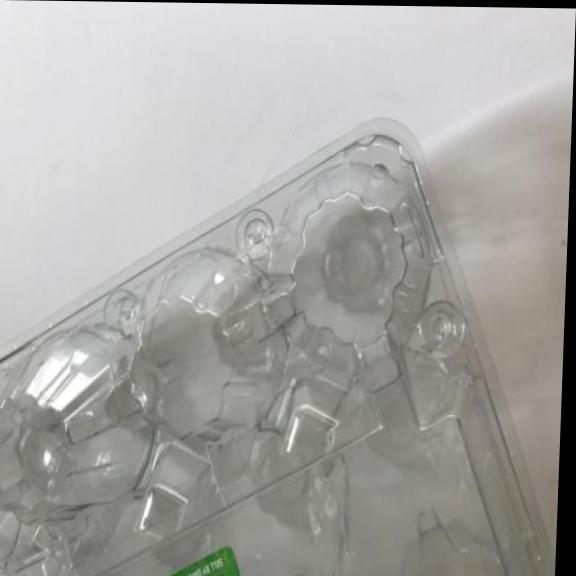Plastik: (0, 104, 572, 576)
